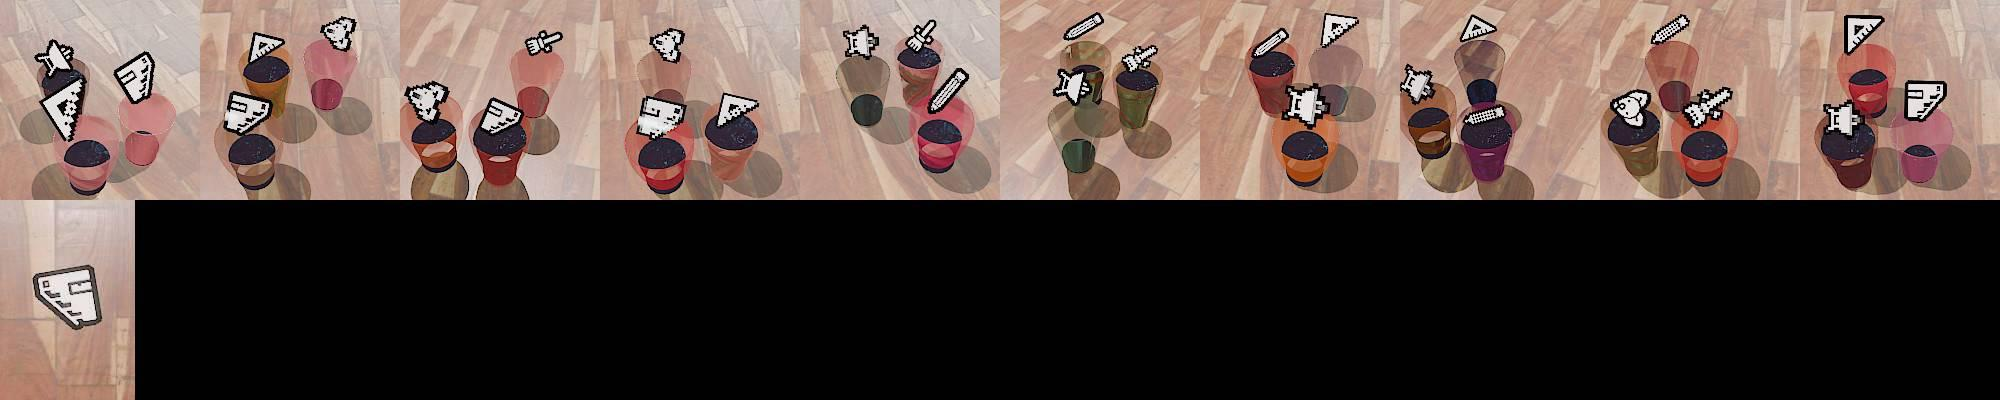icon: (32, 264, 103, 330), (38, 76, 88, 143), (1680, 85, 1735, 129), (222, 90, 273, 136), (114, 51, 157, 104), (1283, 82, 1329, 129), (636, 94, 686, 138), (927, 66, 969, 117), (1904, 79, 1948, 124), (1843, 14, 1885, 57), (404, 80, 450, 120), (1052, 66, 1097, 106), (480, 96, 526, 134), (36, 38, 77, 80), (1610, 88, 1652, 127), (716, 92, 760, 129), (1823, 98, 1864, 138), (1319, 11, 1358, 48), (1401, 64, 1437, 103), (1652, 13, 1693, 47), (320, 15, 357, 52), (246, 31, 286, 65), (1250, 27, 1291, 60), (843, 24, 880, 60), (649, 28, 685, 64), (1459, 13, 1499, 45), (1064, 11, 1105, 42), (1463, 103, 1509, 129), (1121, 43, 1158, 73), (524, 28, 562, 56), (907, 19, 937, 54)
